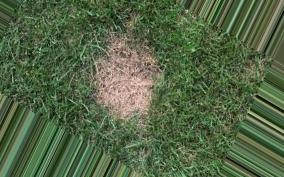patch: (103, 47, 157, 120)
